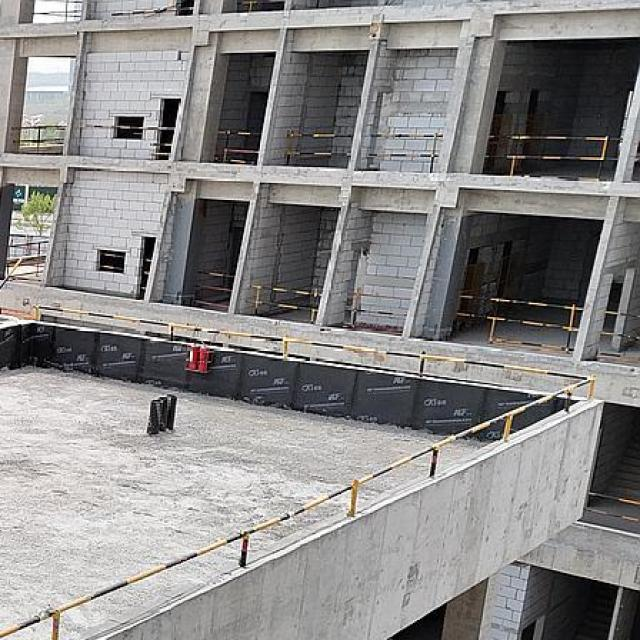edge_guardrail: (2, 301, 602, 638), (454, 294, 584, 351), (483, 134, 608, 176), (366, 132, 443, 172), (249, 283, 324, 323), (345, 292, 414, 327), (286, 132, 353, 167), (584, 490, 640, 523), (5, 240, 51, 280), (9, 124, 68, 154), (194, 270, 234, 310), (110, 0, 194, 19), (215, 129, 262, 162), (600, 310, 640, 343), (33, 1, 83, 22), (73, 122, 176, 132), (237, 0, 283, 13), (99, 252, 124, 271), (140, 257, 151, 290)
